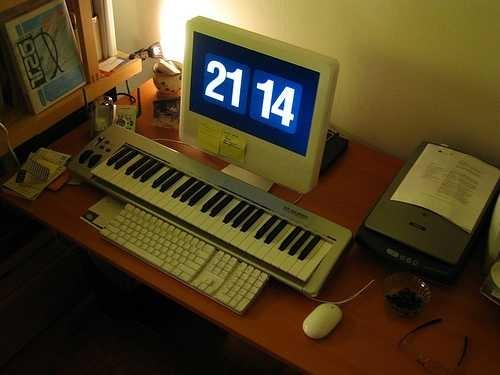Keyboard: (88, 194, 275, 326)
